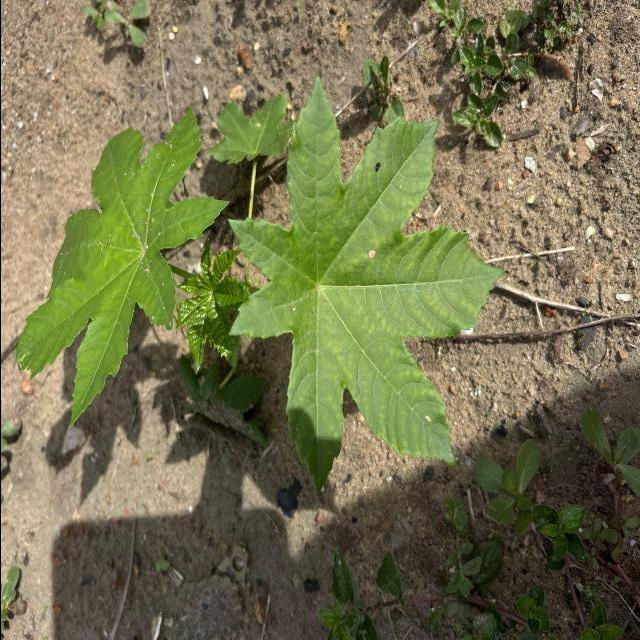Ricinus communis linn: (222, 68, 507, 501), (11, 102, 232, 432)
